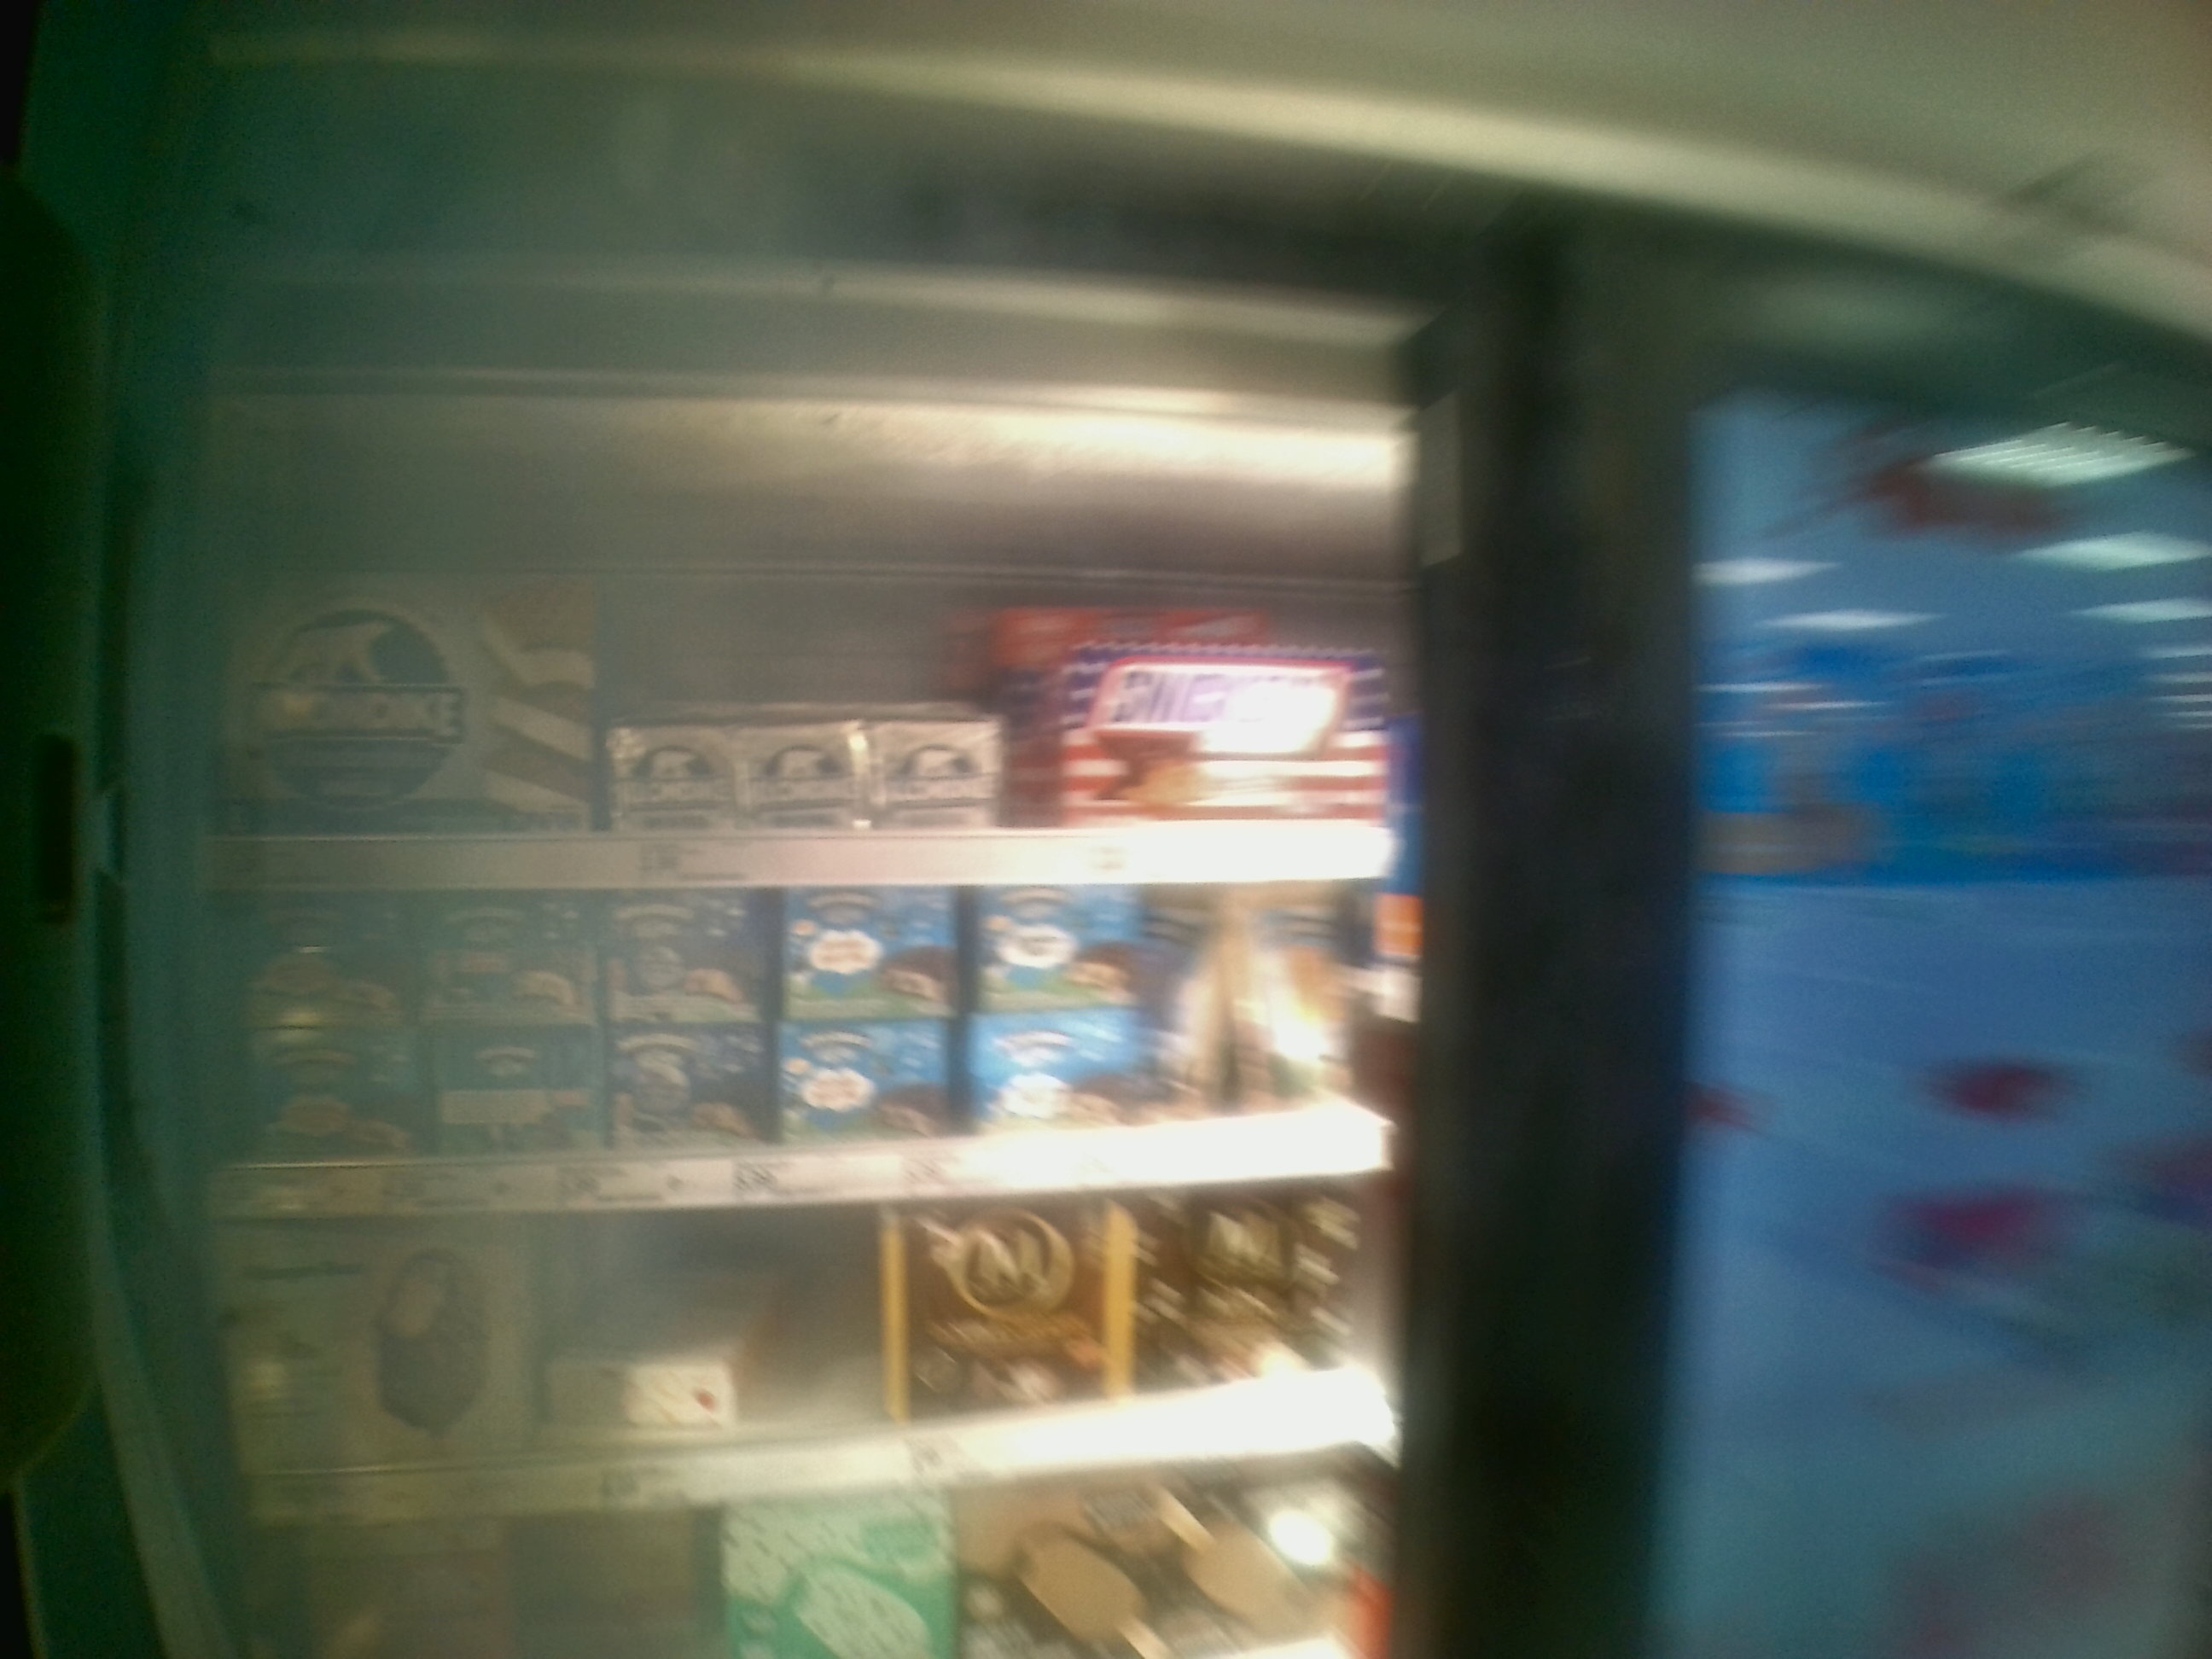ice-cream-shelf: (195, 493, 1406, 884), (204, 892, 1406, 1211)
